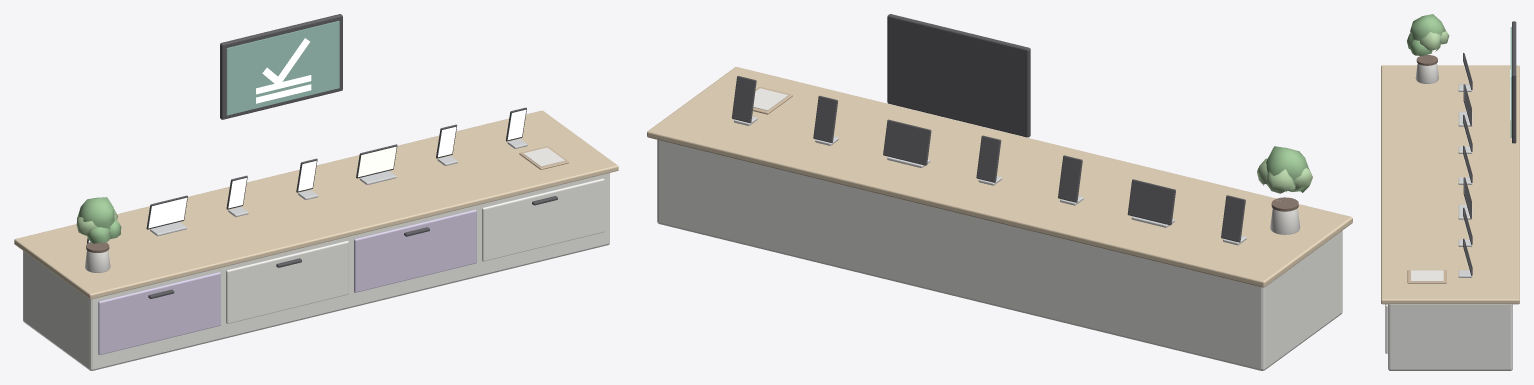
File: tasting.glb
3 views of the same model, side by side, from view 1: azimuth 30°, elevation 25°; view 2: azimuth 150°, elevation 25°; view 3: azimuth 270°, elevation 25° (orthographic). The views are drawn at different scales.
Parts seen in each view (by area): view 1: tasting_oak, tasting_white, tasting_lilac, tasting_test_screen, tasting, tasting_black, tasting_leaf, tasting_aluminium, tasting_check; view 2: tasting_white, tasting_oak, tasting_black, tasting_leaf, tasting_leaf_light, tasting_aluminium; view 3: tasting_oak, tasting_white, tasting_black, tasting_leaf, tasting_aluminium, tasting_leaf_light, tasting_paper, tasting_oak_edge, tasting_test_screen, tasting_soil, tasting.
Boxes of the visible parts, <box> form: tasting_oak: <box>14,110,618,299</box>; tasting_white: <box>23,173,609,370</box>; tasting_lilac: <box>98,209,476,354</box>; tasting_test_screen: <box>226,21,339,115</box>; tasting: <box>88,75,526,242</box>; tasting_black: <box>87,14,557,298</box>; tasting_leaf: <box>77,197,121,243</box>; tasting_aluminium: <box>150,139,527,236</box>; tasting_check: <box>262,38,309,83</box>; tasting_white: <box>657,139,1342,370</box>; tasting_oak: <box>647,67,1352,287</box>; tasting_black: <box>732,14,1245,242</box>; tasting_leaf: <box>1266,146,1309,192</box>; tasting_leaf_light: <box>1257,158,1312,193</box>; tasting_aluminium: <box>734,116,1246,245</box>; tasting_oak: <box>1381,65,1519,304</box>; tasting_white: <box>1385,63,1512,370</box>; tasting_black: <box>1463,21,1516,275</box>; tasting_leaf: <box>1407,14,1445,55</box>; tasting_aluminium: <box>1458,84,1472,277</box>; tasting_leaf_light: <box>1420,31,1449,51</box>; tasting_paper: <box>1411,270,1443,281</box>; tasting_oak_edge: <box>1407,270,1446,283</box>; tasting_test_screen: <box>1510,27,1511,137</box>; tasting_soil: <box>1416,55,1437,65</box>; tasting: <box>1463,61,1510,273</box>.
Size of the model in its own units: 4.8 by 1.98 by 1.2.
